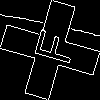F: (25, 25, 77, 67)
